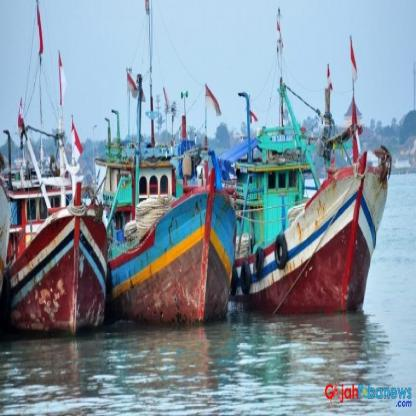fishing boat: (252, 24, 406, 318), (116, 63, 234, 325), (10, 113, 109, 323)
